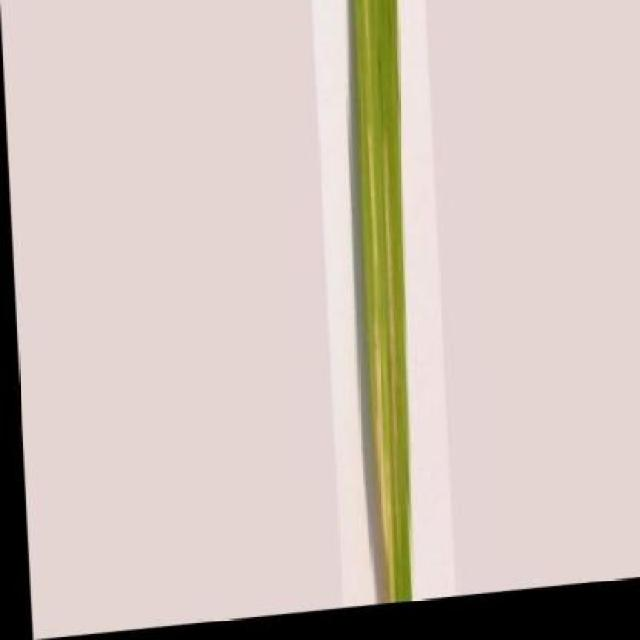Brown_Spot: (335, 0, 426, 612)
